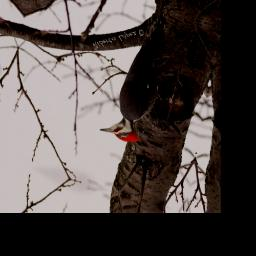Woodpecker: (97, 7, 175, 149)
